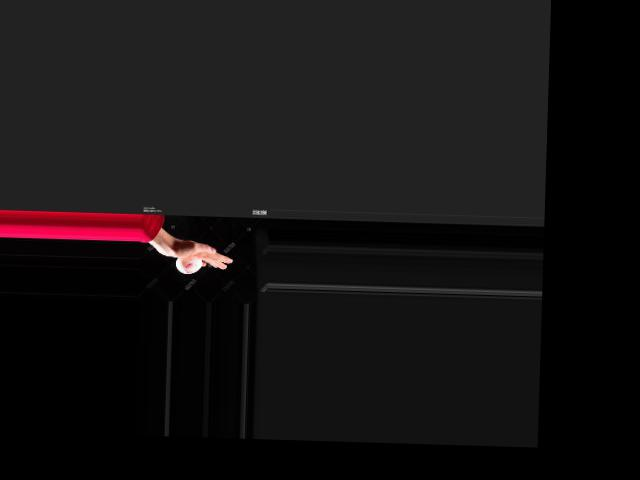egg: (174, 256, 201, 274)
